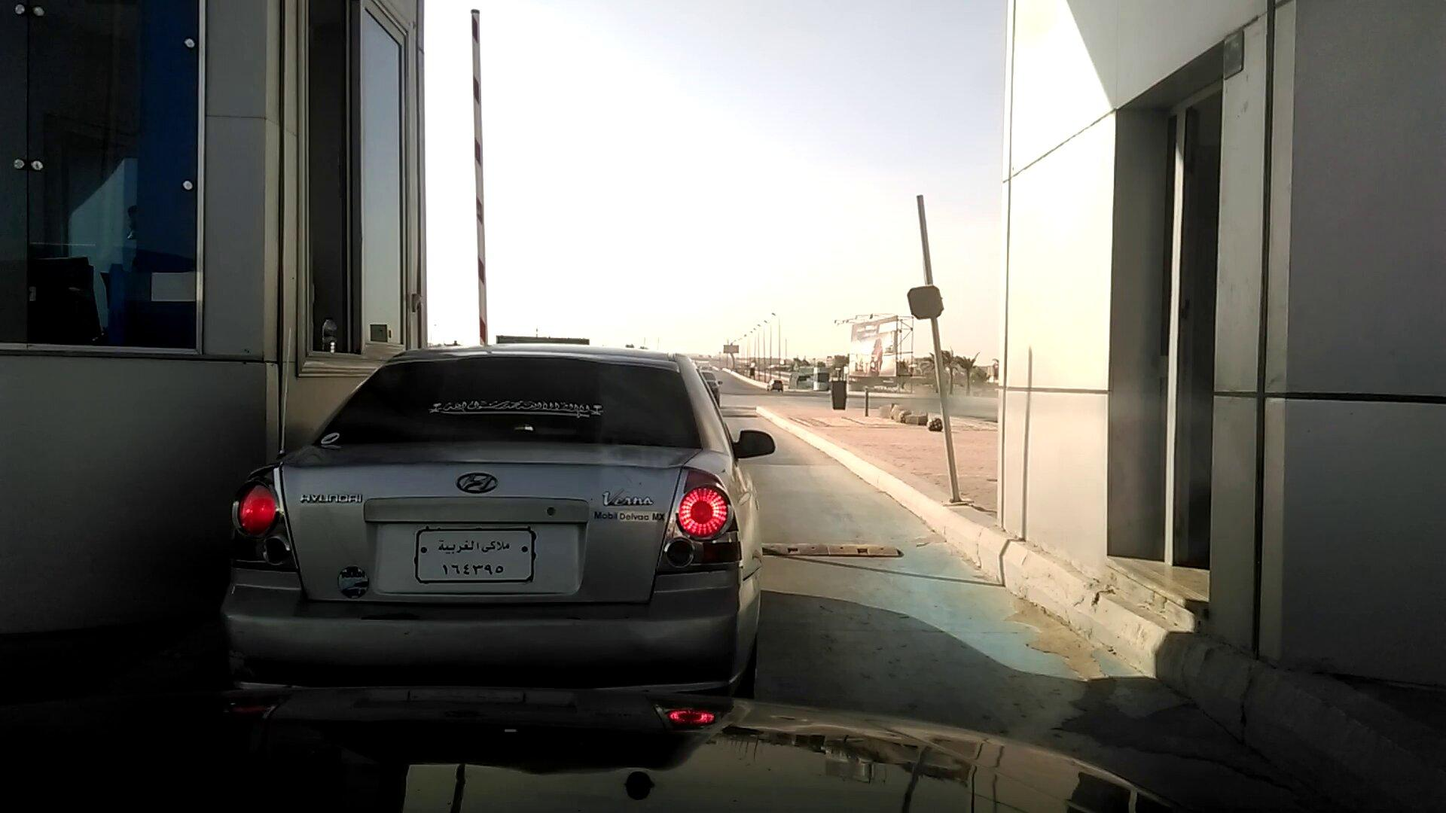Bump: (759, 533, 913, 563)
